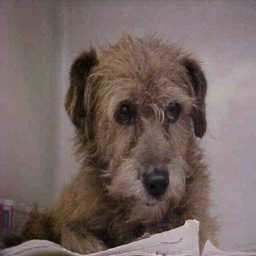dog: (48, 41, 225, 249)
